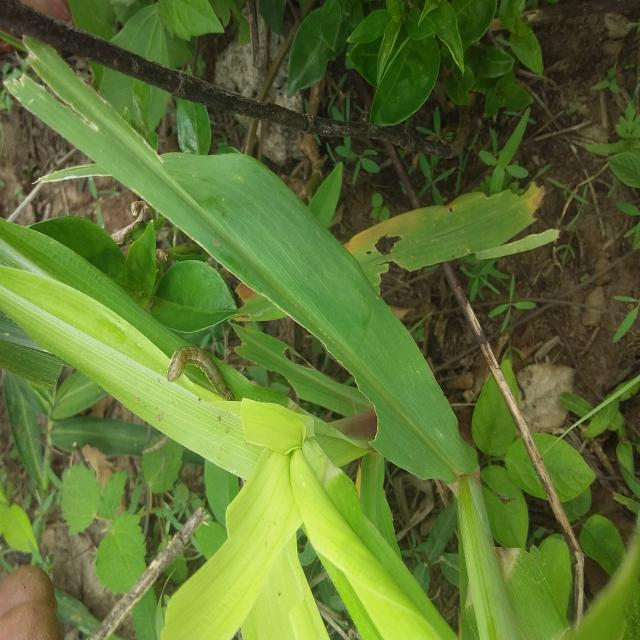yellow-stem-borer-larva: (153, 337, 246, 404)
